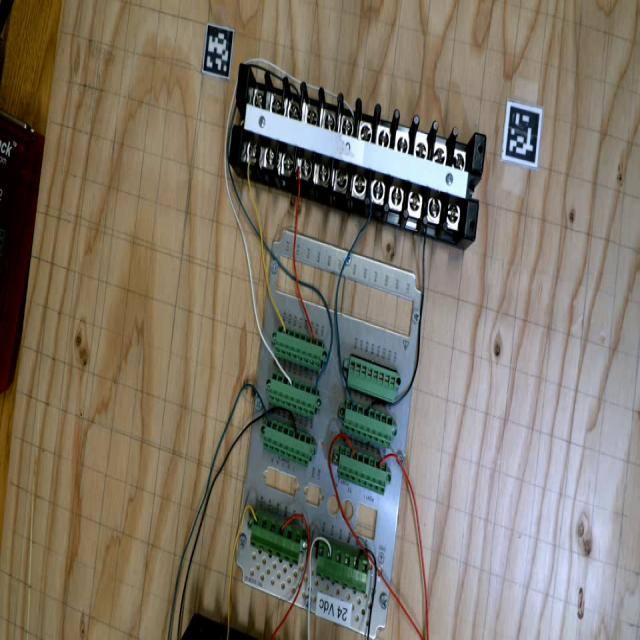Phillips_Block: (211, 57, 506, 239)
Terminal_1: (307, 538, 379, 595), (243, 510, 311, 566)
Terminal_2: (330, 444, 396, 495), (255, 417, 320, 468), (336, 399, 401, 449), (262, 371, 324, 419), (268, 325, 330, 372)
